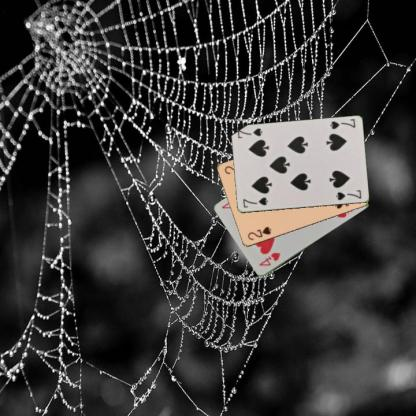2s: (245, 224, 273, 242)
4h: (257, 250, 282, 268)
7s: (240, 195, 270, 209), (327, 116, 357, 130)
